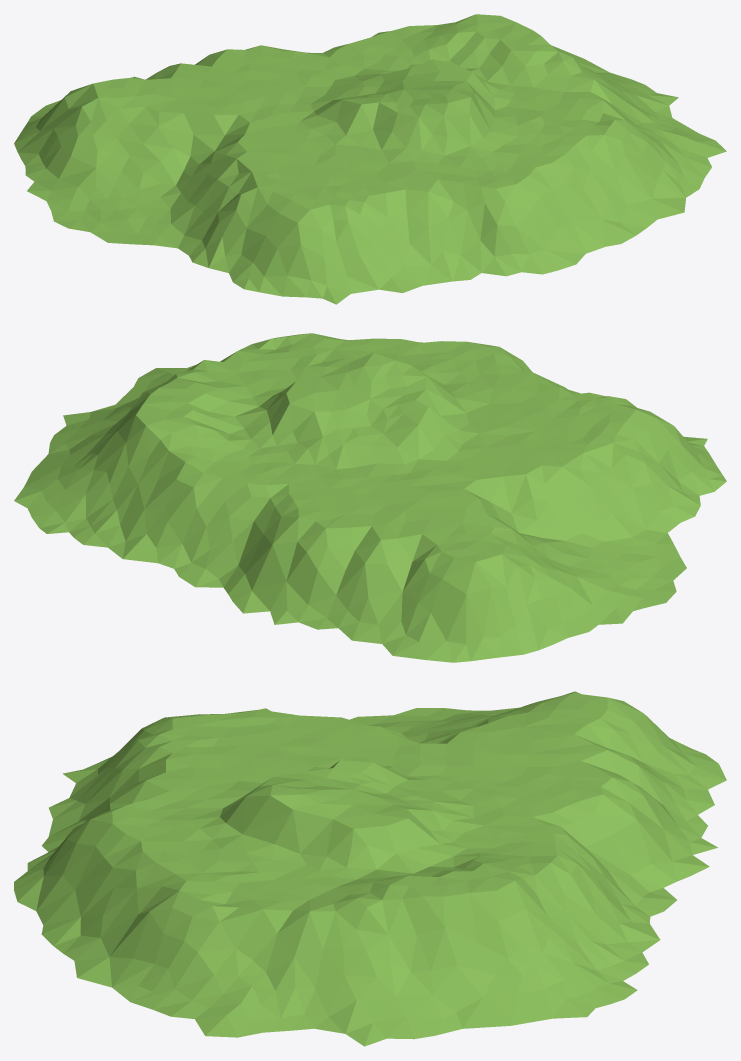
File: MT_Mountain_L_c_03.fbx
3 renders of one model, top to bottom at view 1: azimuth 30°, elevation 25°; view 2: azimuth 150°, elevation 25°; view 3: azimuth 270°, elevation 25°, orthographic. The views are drawn at different scales.
Visible parts, largest first — view 1: MT_Mountain_L_c_03; view 2: MT_Mountain_L_c_03; view 3: MT_Mountain_L_c_03.
Part boxes in pixels (<box>): MT_Mountain_L_c_03: <box>14,14,726,304</box>; MT_Mountain_L_c_03: <box>14,333,726,662</box>; MT_Mountain_L_c_03: <box>14,691,726,1046</box>.
Bounding box in the file's own units: 9499 × 1446 × 8328.
